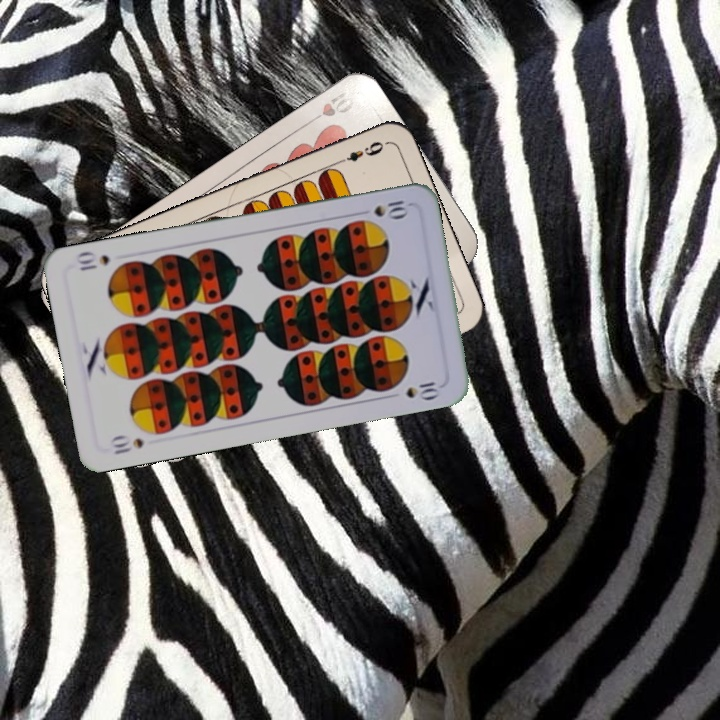E9: (332, 137, 388, 167)
H10: (303, 84, 357, 127)
S10: (353, 196, 412, 220), (106, 432, 147, 457)
